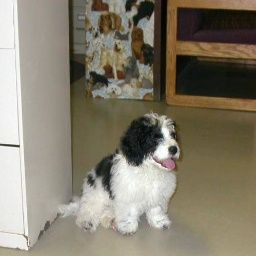dog: (72, 108, 183, 235)
